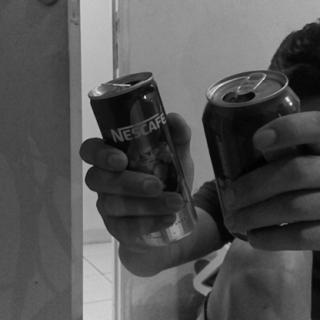alumunium_can: (89, 72, 199, 246), (204, 72, 301, 244)
